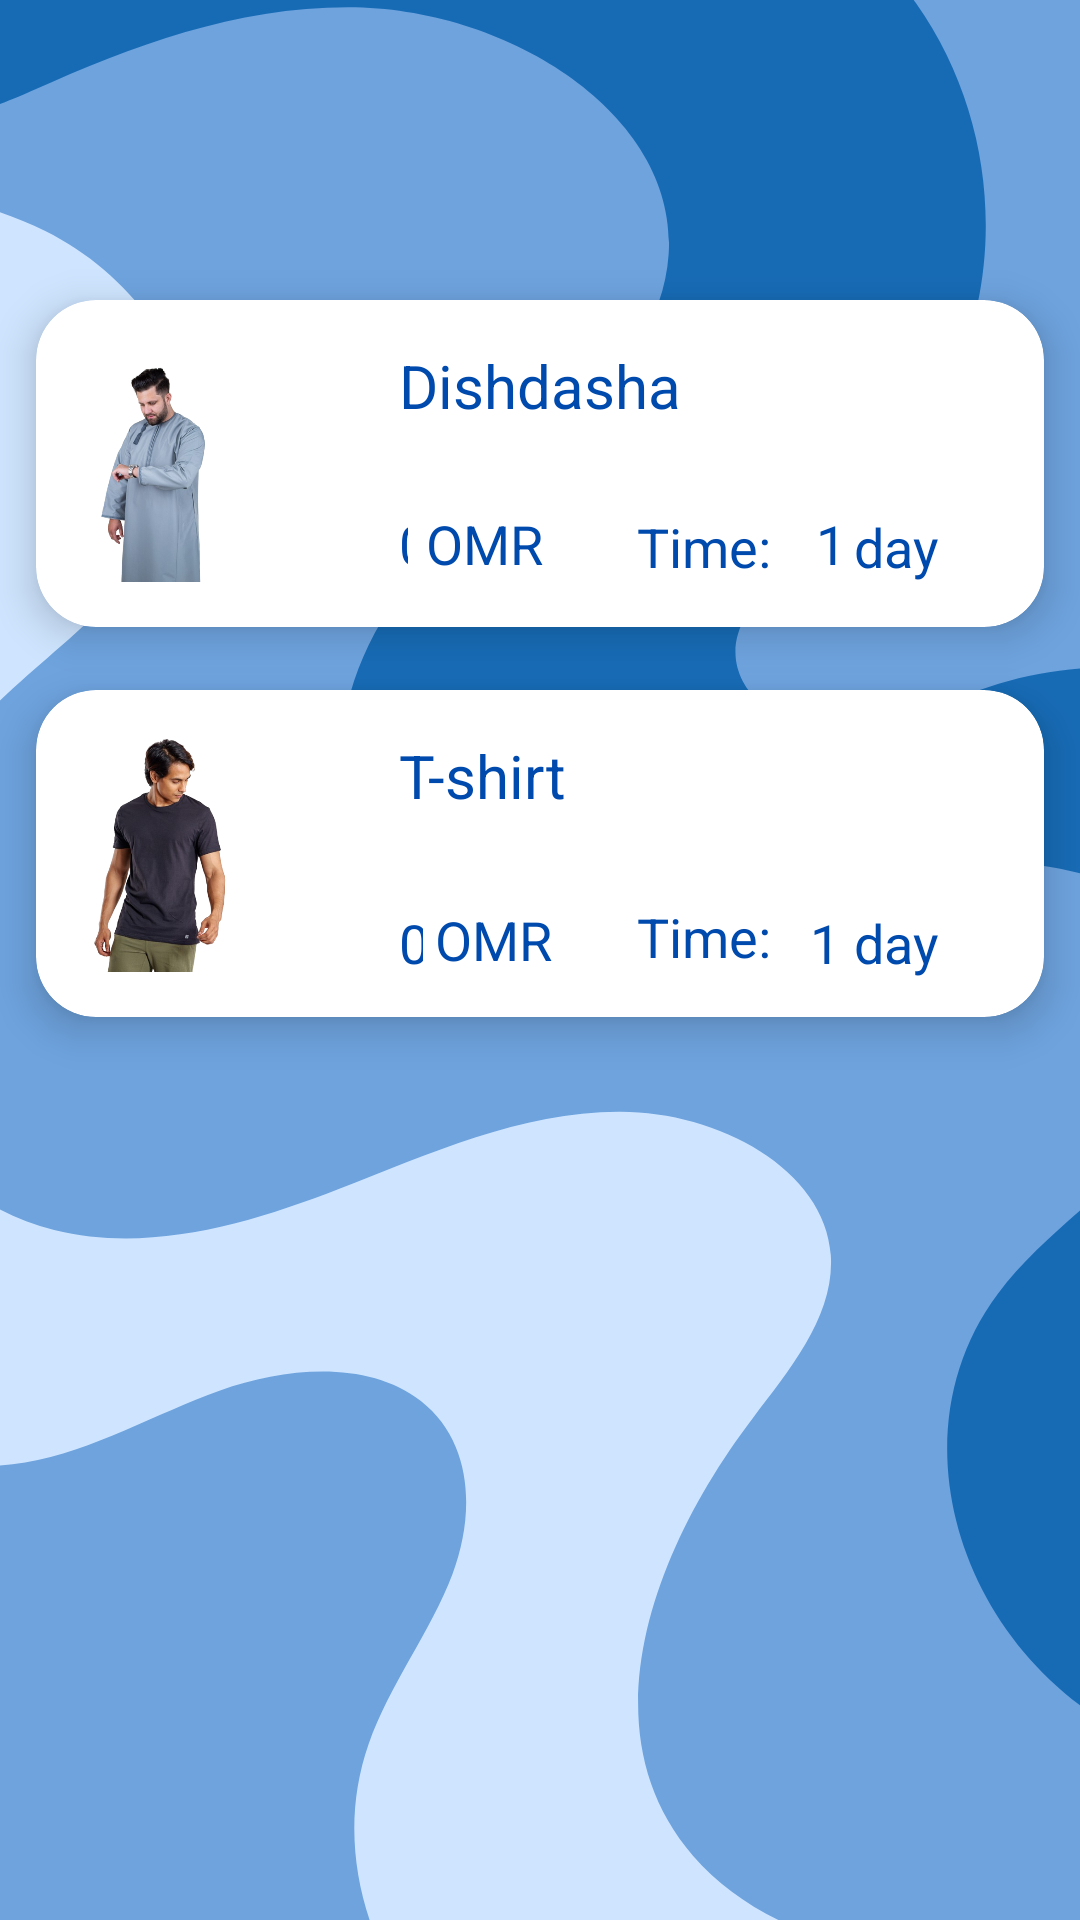

Screen size 1080 x 1920. Icon name, then its center in pixels as (x,y):
dishdasha: (153,475)
shirt: (159,855)
